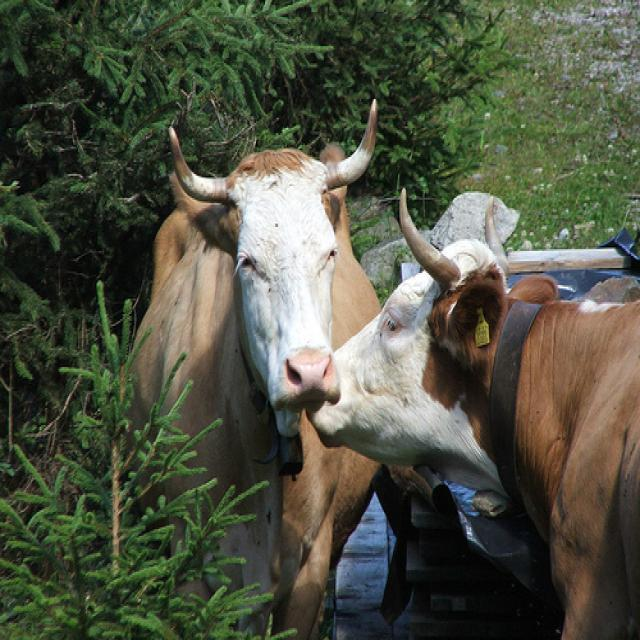cow: (308, 184, 640, 639), (114, 99, 383, 640)
